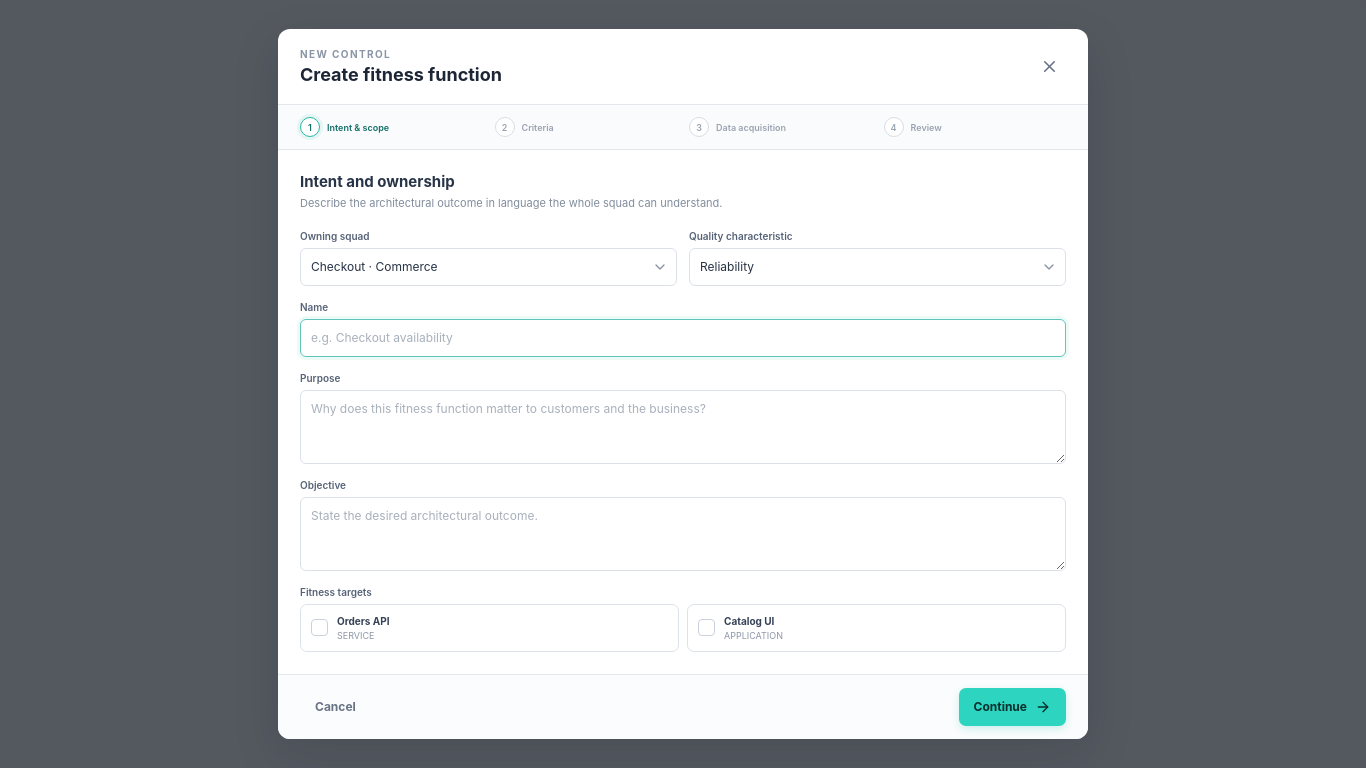
Test: CreateFitnessFunction › blocks continuation until the identity step is valid
The width and height of the screenshot is (1366, 768).
Expected: the text "Orders API" is shown, [337, 615, 390, 627]
Click the button "Continue".
click(1012, 707)  # box [958, 688, 1066, 726]
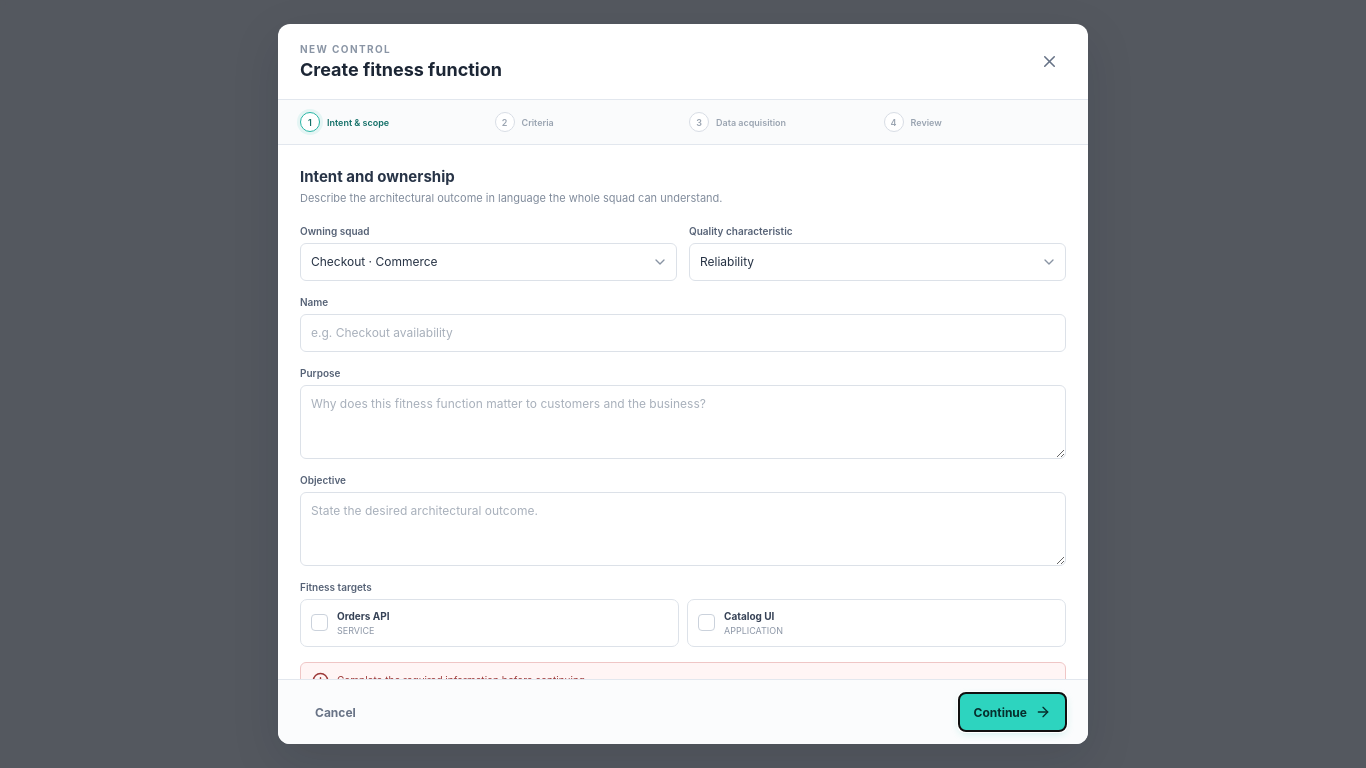
Type "Latency budget" into the field labelled "Name".
click(683, 332); type("Latency budget")  # box [300, 314, 1066, 352]
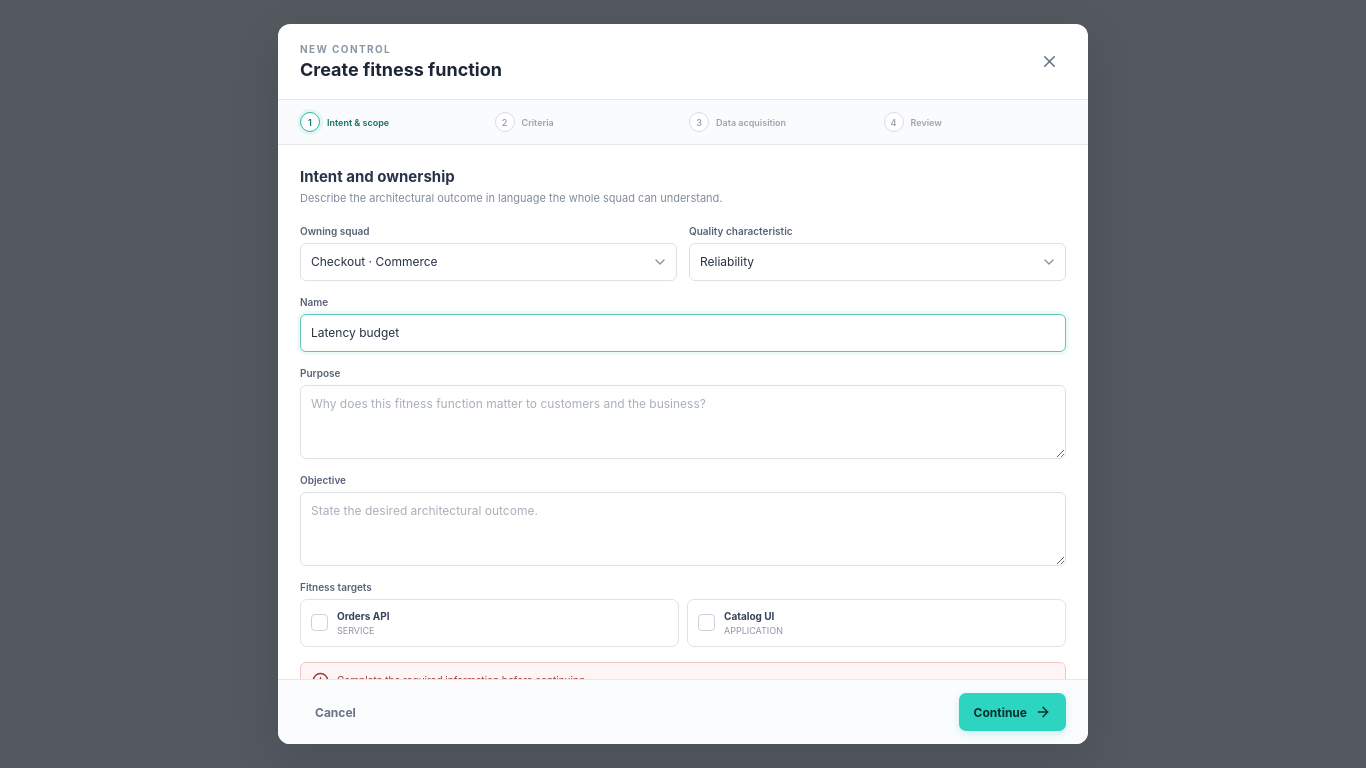
Type "Protect the checkout journey from latency regressions." into the text box labelled "Purpose".
click(683, 422); type("Protect the checkout journey from latency regressions.")  # box [300, 384, 1066, 458]
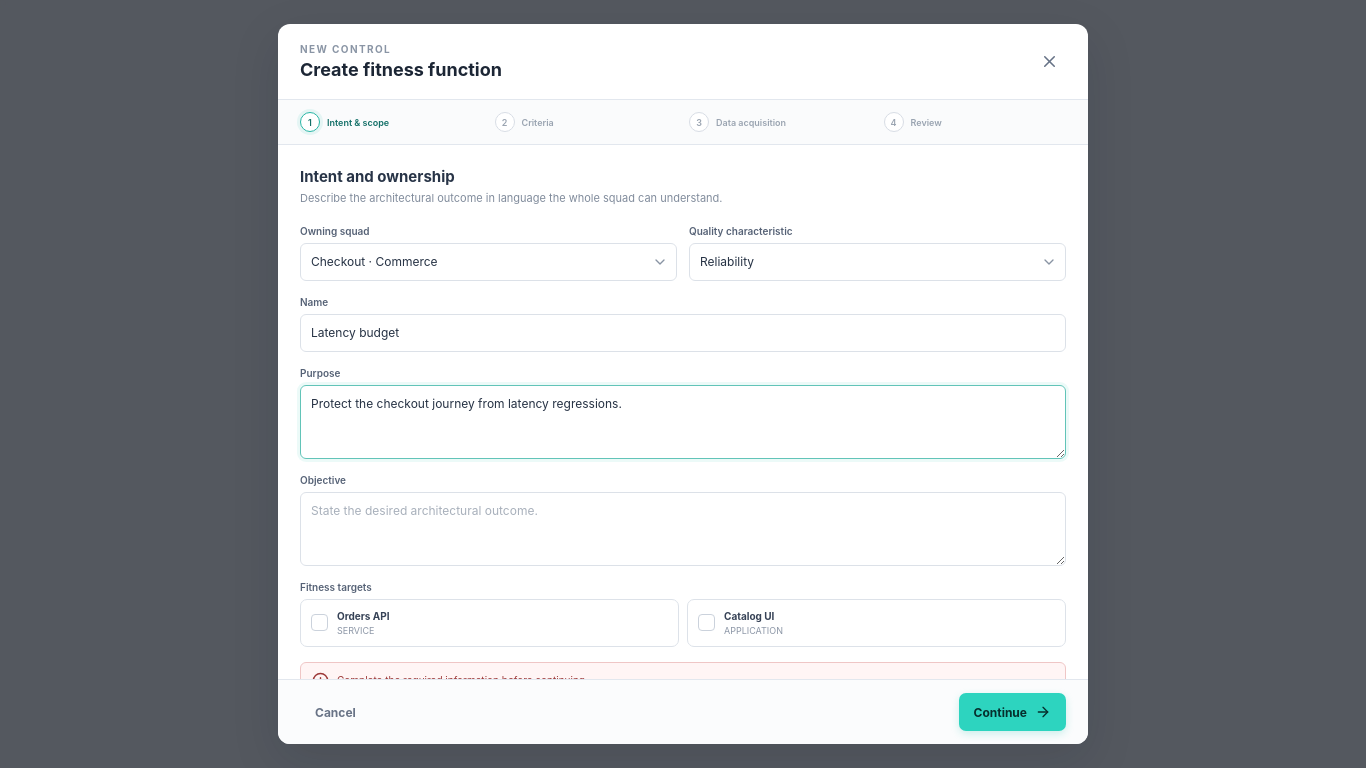
Type "Keep the p95 response time within the agreed budget." into the text box labelled "Objective".
click(683, 528); type("Keep the p95 response time within the agreed budget.")  # box [300, 492, 1066, 566]
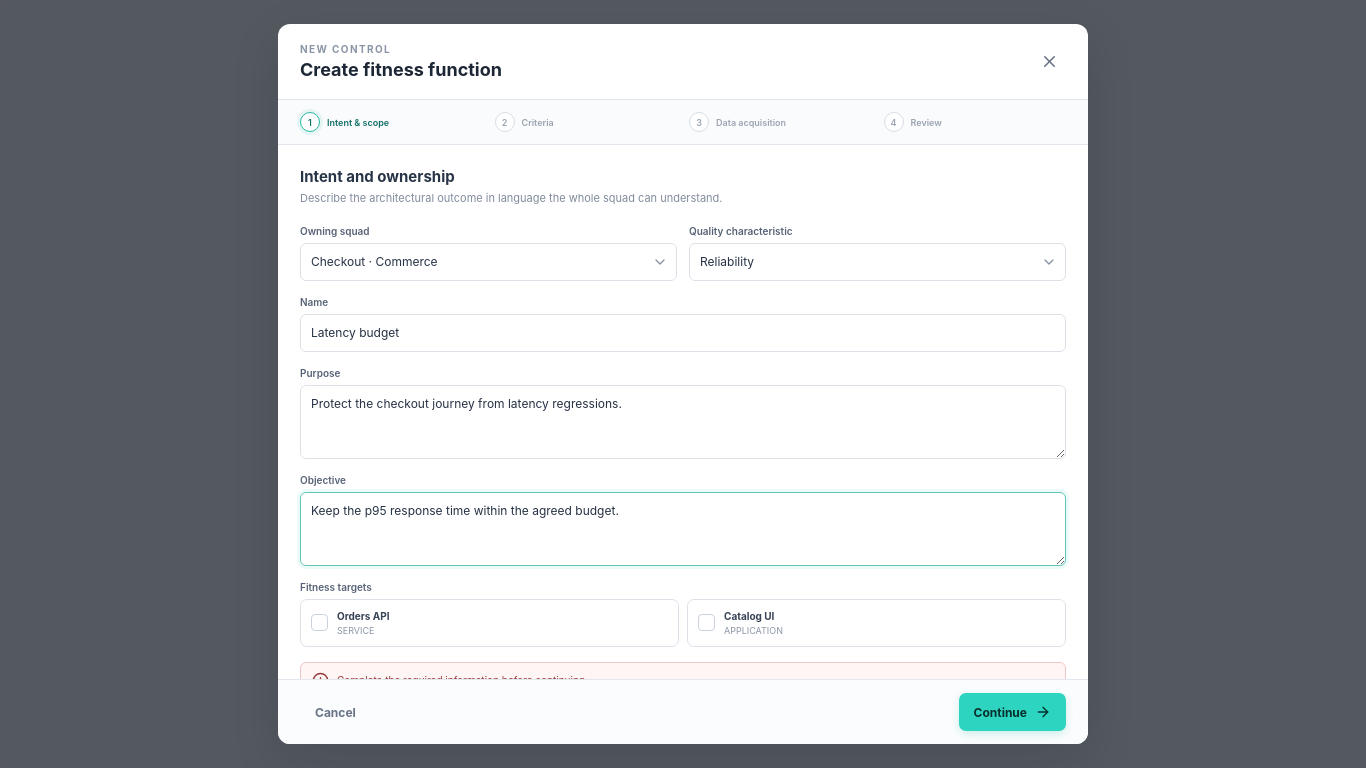
Click the button "Orders API SERVICE".
click(363, 616)  # box [300, 598, 679, 646]
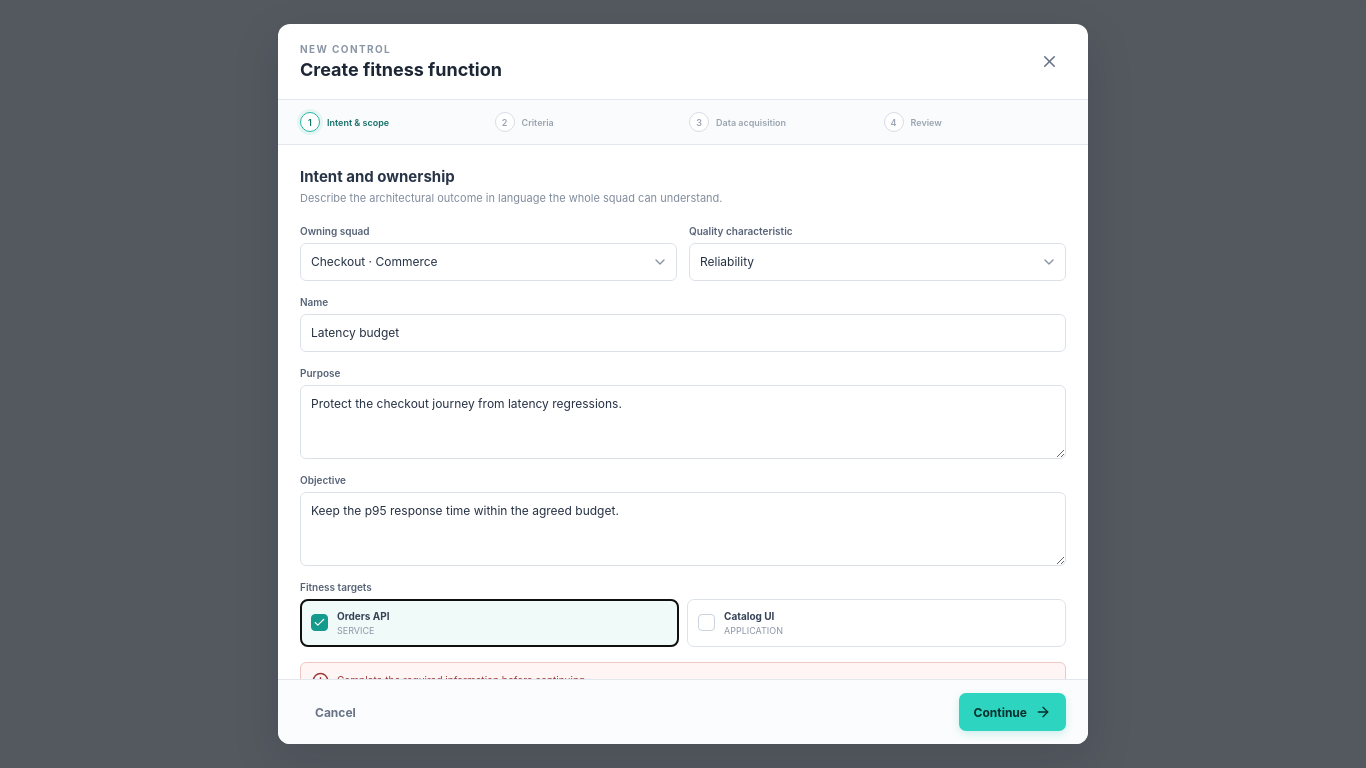
Click the button "Continue".
click(1012, 712)  # box [958, 693, 1066, 731]
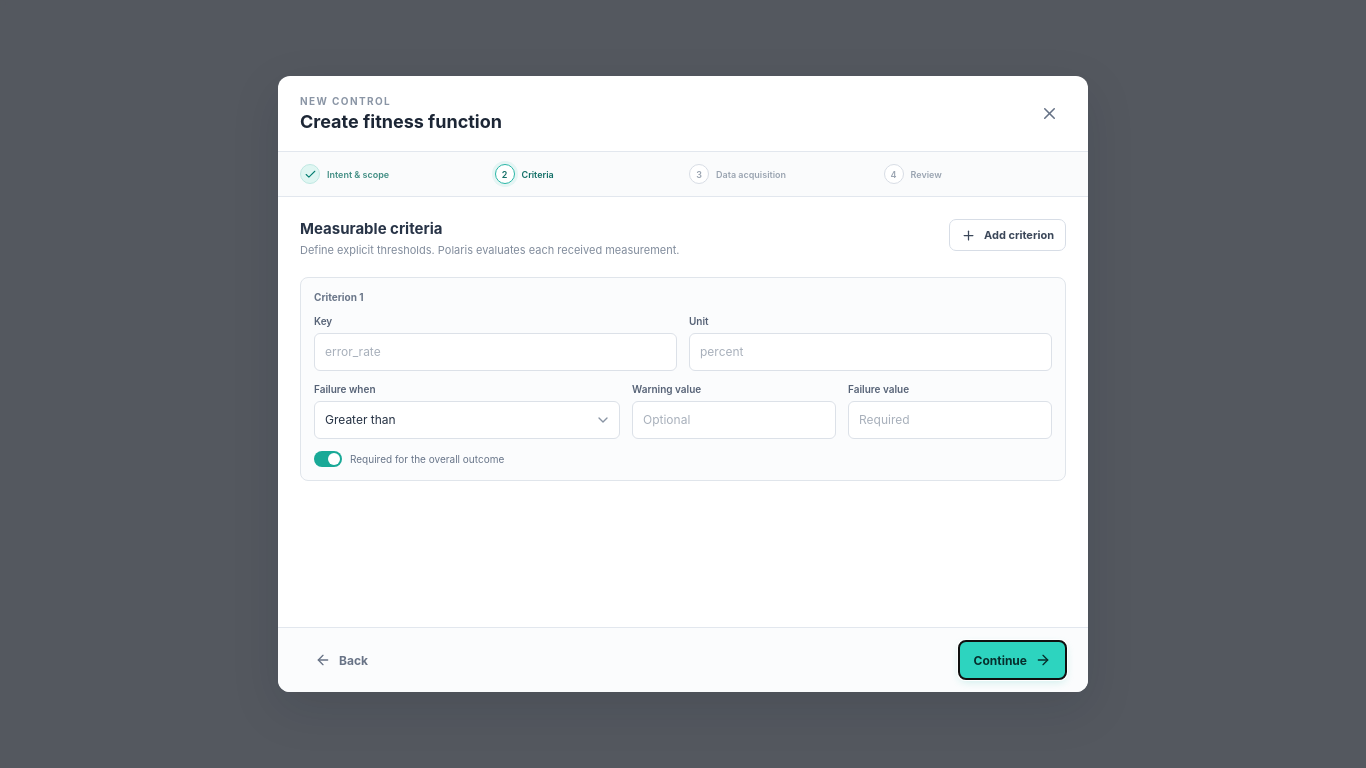
Expected: the heading "Measurable criteria" is shown, [300, 219, 442, 238]
